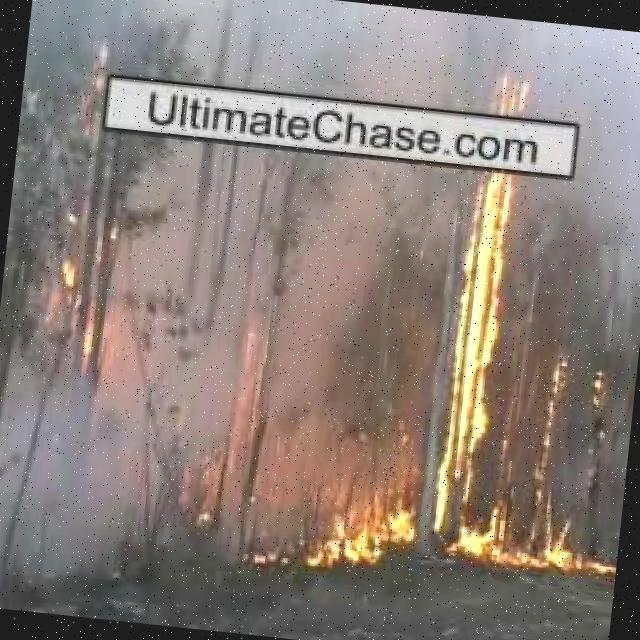Fire: (429, 84, 538, 555), (306, 488, 417, 566), (528, 501, 616, 580)
